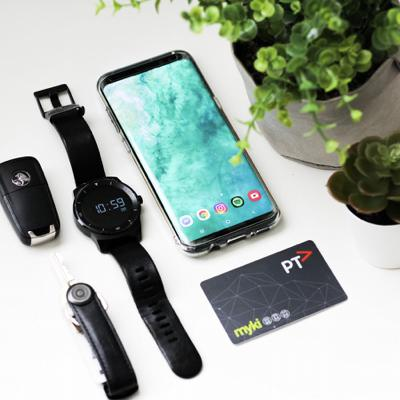cell-phone: (95, 45, 283, 258)
